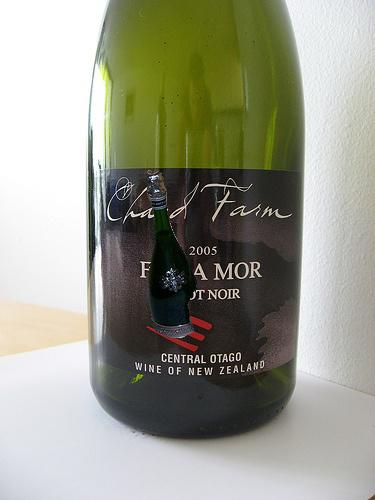tampered: (148, 171, 197, 338)
